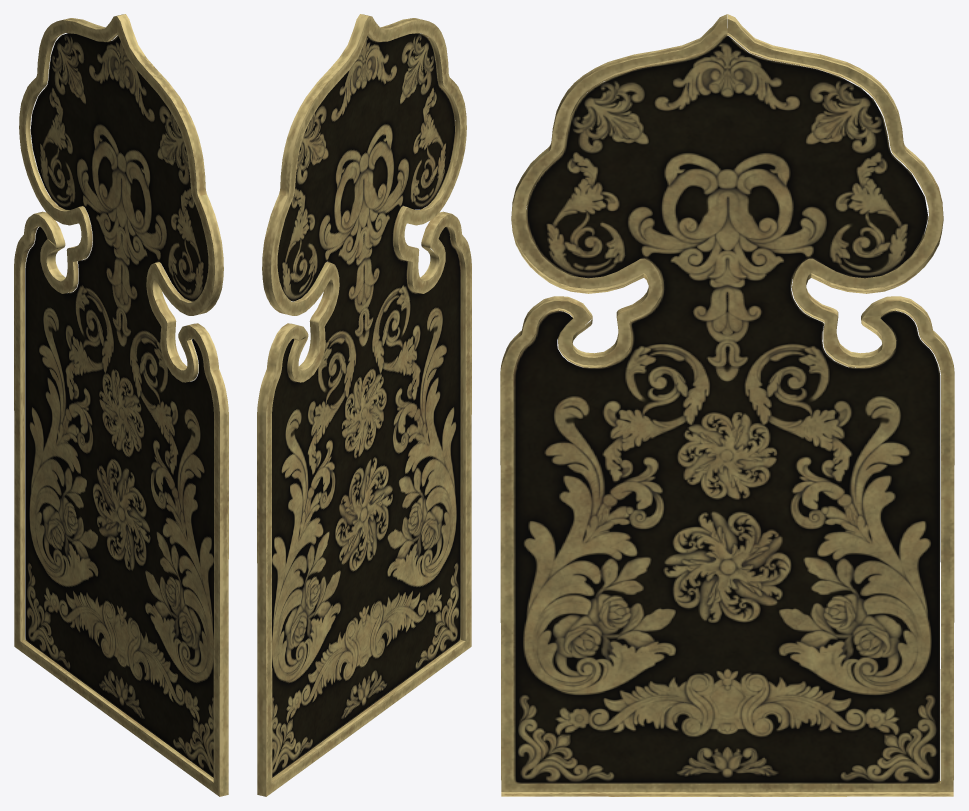
The model's file is SM_MetalPanel_07.fbx.
3 renders of one model, left to right at view 1: azimuth 30°, elevation 25°; view 2: azimuth 150°, elevation 25°; view 3: azimuth 270°, elevation 25°, orthographic. The views are drawn at different scales.
Parts seen in each view (by area): view 1: SM_MetalPanel_07_LOD0; view 2: SM_MetalPanel_07_LOD0; view 3: SM_MetalPanel_07_LOD0.
Boxes of the visible parts, bbox=[...] form: SM_MetalPanel_07_LOD0: bbox=[14, 14, 228, 796]; SM_MetalPanel_07_LOD0: bbox=[257, 14, 471, 796]; SM_MetalPanel_07_LOD0: bbox=[500, 14, 954, 796].
Size of the model in its own units: 1.39 by 55.81 by 105.
